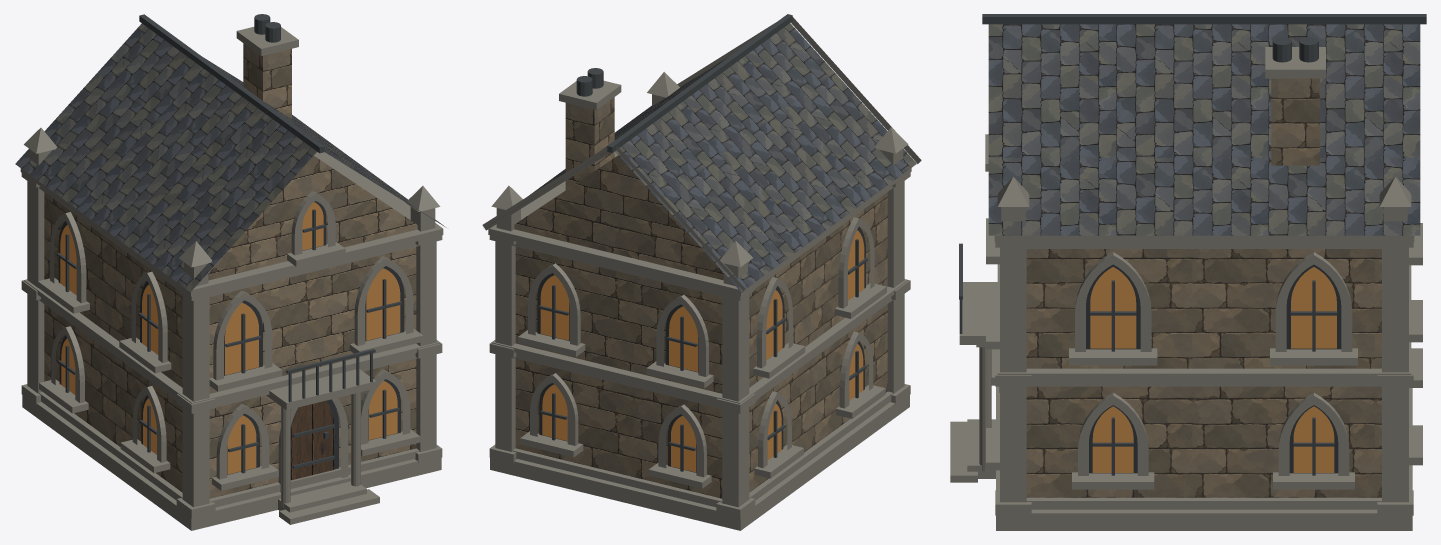
Rendered from gothic_house.glb.
3 views of the same model, side by side, from view 1: azimuth 30°, elevation 25°; view 2: azimuth 150°, elevation 25°; view 3: azimuth 270°, elevation 25° (orthographic). The views are drawn at different scales.
Parts seen in each view (by area): view 1: GothicHouse; view 2: GothicHouse; view 3: GothicHouse.
Boxes of the visible parts, x1,y1,x2,y2 form: GothicHouse: (15, 14, 446, 530); GothicHouse: (482, 14, 921, 530); GothicHouse: (950, 14, 1426, 530).
Bounding box in the file's own units: 6.16 × 8.31 × 7.83.
7 materials, 3 textured.
